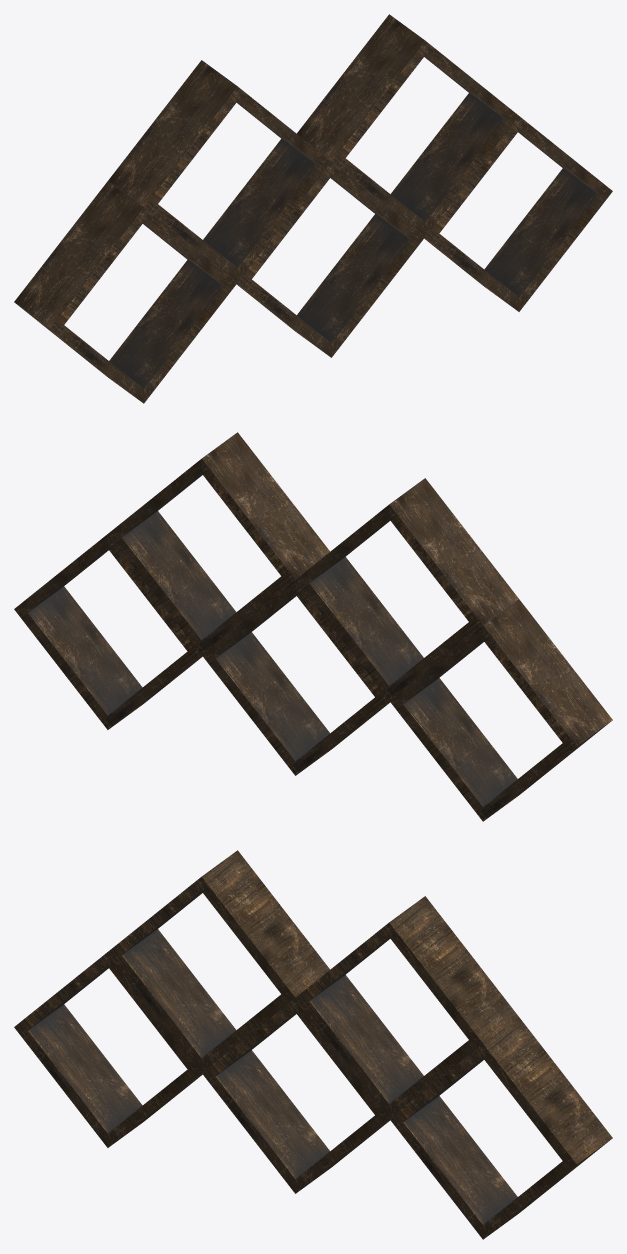
The model's file is SM_WineCab.FBX.
3 renders of one model, top to bottom at view 1: azimuth 30°, elevation 25°; view 2: azimuth 150°, elevation 25°; view 3: azimuth 330°, elevation 25°, orthographic.
Visible parts, largest first — view 1: SM_WineCab; view 2: SM_WineCab; view 3: SM_WineCab.
Part boxes in pixels (x1=…): SM_WineCab: x1=14, y1=14, x2=612, y2=403; SM_WineCab: x1=14, y1=432, x2=612, y2=821; SM_WineCab: x1=14, y1=850, x2=612, y2=1239.
Size of what is drawn, in the model's own units: 180 by 20 by 90.
